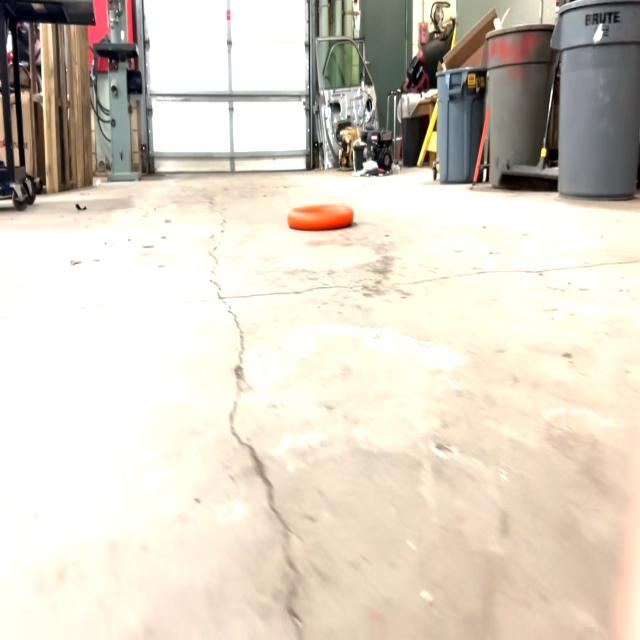note: (286, 198, 355, 233)
